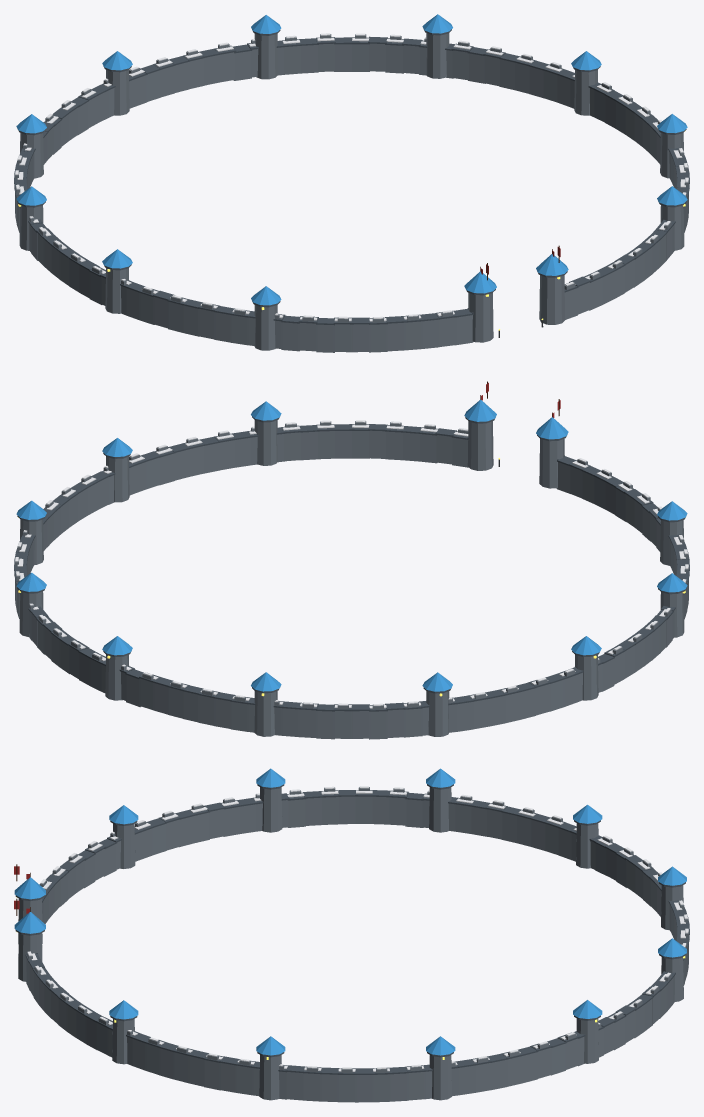
Rendered from city_wall_t4.glb.
3 renders of one model, top to bottom at view 1: azimuth 30°, elevation 25°; view 2: azimuth 150°, elevation 25°; view 3: azimuth 270°, elevation 25°, orthographic.
Visible parts, largest first — view 1: city_wall_t4; view 2: city_wall_t4; view 3: city_wall_t4.
Part boxes in pixels (x1=…): city_wall_t4: x1=14, y1=14, x2=689, y2=352; city_wall_t4: x1=14, y1=381, x2=689, y2=739; city_wall_t4: x1=14, y1=768, x2=689, y2=1102.
Size of the model in its own units: 93.79 by 12.49 by 94.83.
